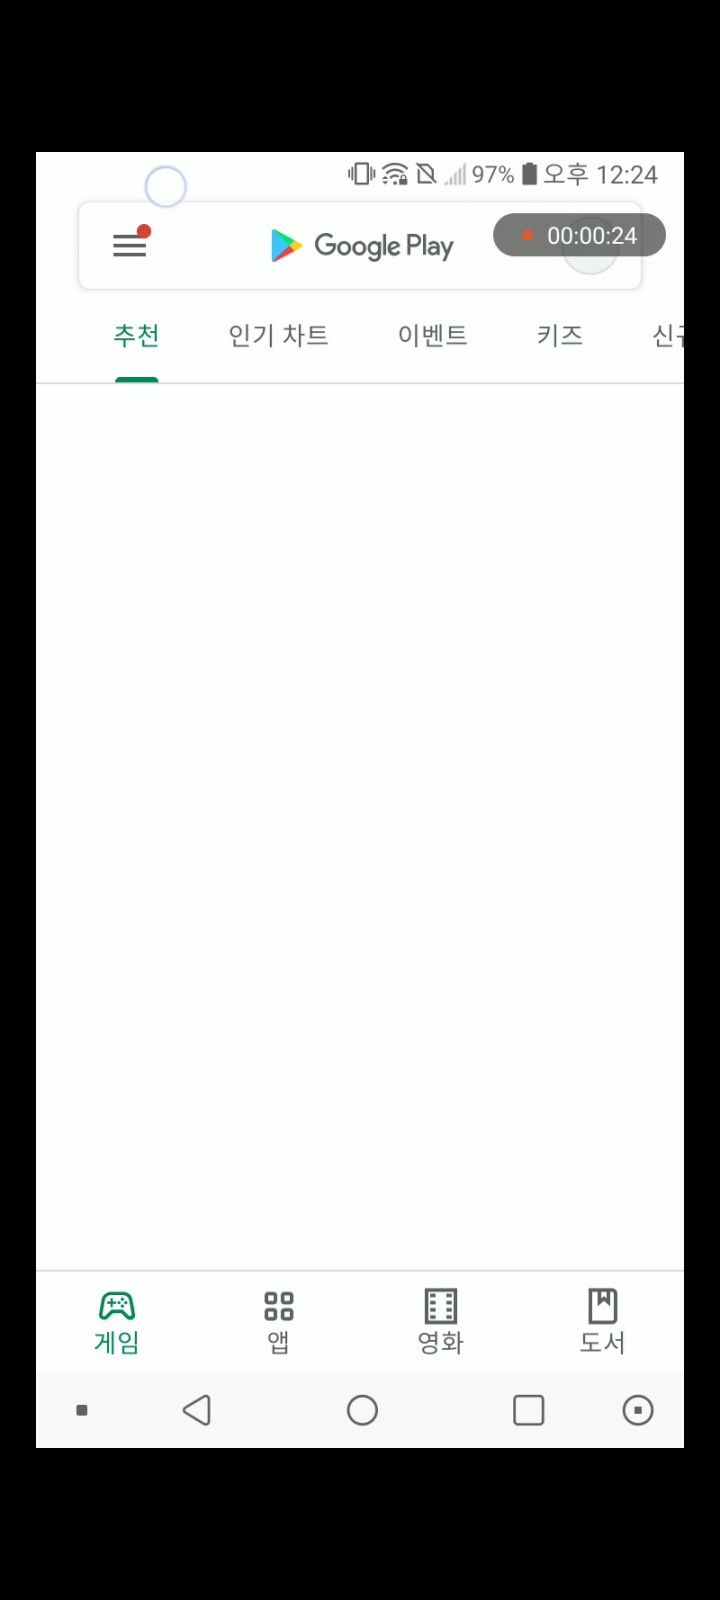Cursor: (144, 163, 189, 209)
